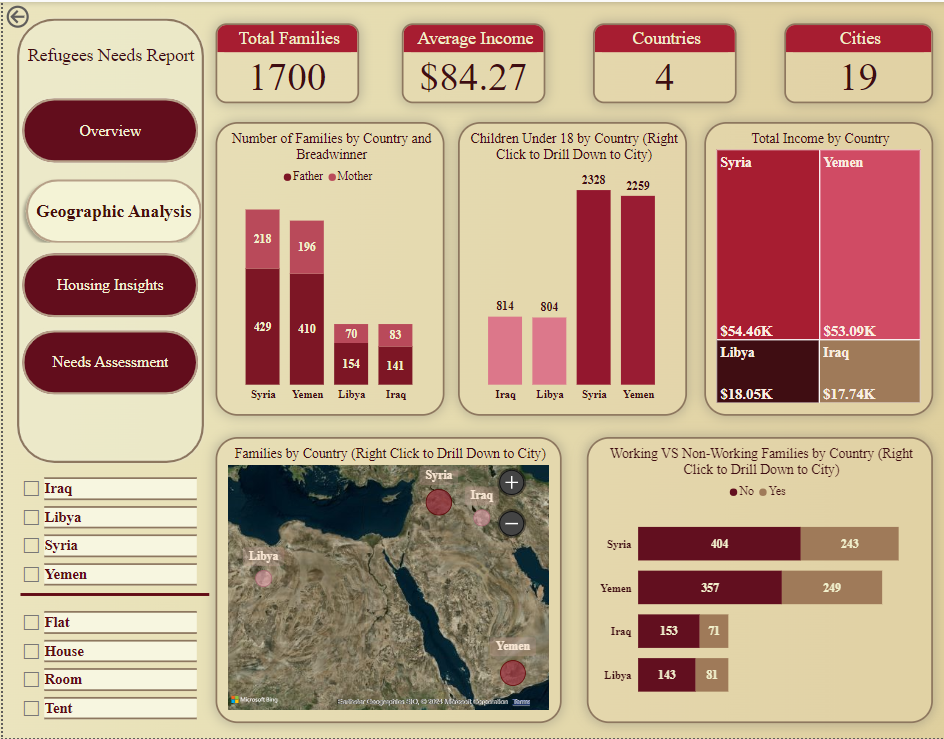

Layout of this report page (visuals, bound fields, positions):
{"tool":"powerbi","page":{"name":"Geographic Analysis","canvas":[1280,1000],"ordinal":1},"visuals":[{"type":"card","title":"Countries","fields":{"Values":["Measures_.total_countries"]},"box":[801.6,28.9,195.3,108.7],"z":0},{"type":"card","title":"Cities","fields":{"Values":["Measures_.total_citites"]},"box":[1061.5,28.9,202.1,108.7],"z":1000},{"type":"card","title":"Average Income","fields":{"Values":["Measures_.avg_income"]},"box":[541.8,28.9,195.3,108.7],"z":2000},{"type":"card","title":"Total Families","fields":{"Values":["Measures_.total_families"]},"box":[288.7,28.9,195.3,108.7],"z":3000},{"type":"shape","box":[15.3,18.7,261.6,611.4],"z":4000},{"type":"columnChart","title":"Number of Families by Country and Breadwinner","fields":{"Category":["Needs.Country"],"Y":["Count(Needs.Name)"],"Series":["Needs.Breadwinner"]},"box":[288.7,163,310.8,399.1],"z":5000},{"type":"clusteredColumnChart","title":"Children Under 18 by Country (Right Click to Drill Down to City)","fields":{"Category":["Needs.Country","Needs.City"],"Y":["Sum(Needs.Under 18 )"]},"box":[618.2,163,310.8,399.1],"z":6000},{"type":"treemap","title":"Total Income by Country","fields":{"Group":["Needs.Country"],"Values":["Sum(Needs.Income)"]},"box":[952.8,163,310.8,399.1],"z":7000},{"type":"map","title":"Families by Country (Right Click to Drill Down to City)","fields":{"Size":["CountNonNull(Needs.Name)"],"Category":["Needs.Country","Needs.City"]},"box":[288.7,591,470,388.9],"z":8000},{"type":"barChart","title":"Working VS Non-Working Families by Country (Right Click to Drill Down to City)","fields":{"Series":["Needs.Is Working?"],"Category":["Needs.Country","Needs.City"],"Y":["CountNonNull(Needs.Name)"]},"box":[793,591,470,388.9],"z":9000},{"type":"shape","box":[23.8,798,256.5,13.6],"z":10000},{"type":"textbox","box":[22.1,54.3,249.7,42.5],"z":11000},{"type":"pageNavigator","box":[22.1,107,248,433.1],"z":12000},{"type":"actionButton","box":[0,0,100,40],"z":13000},{"type":"slicer","fields":{"Values":["Needs.Country"]},"box":[15.3,636.9,253.1,168.1],"z":14000},{"type":"slicer","fields":{"Values":["Needs.House"]},"box":[15,818,253,168],"z":15000}]}

Visuals, with their boxes in screenshot pixels (x1, y1, x2, y2), scaled from the page's 1280x1000 canvas onto the 944x739 screenshot:
"Countries" card: left=591, top=21, right=735, bottom=102
"Cities" card: left=783, top=21, right=932, bottom=102
"Average Income" card: left=400, top=21, right=544, bottom=102
"Total Families" card: left=213, top=21, right=357, bottom=102
shape: left=11, top=14, right=204, bottom=466
"Number of Families by Country and Breadwinner" columnChart: left=213, top=120, right=442, bottom=415
"Children Under 18 by Country (Right Click to Drill Down to City)" clusteredColumnChart: left=456, top=120, right=685, bottom=415
"Total Income by Country" treemap: left=703, top=120, right=932, bottom=415
"Families by Country (Right Click to Drill Down to City)" map: left=213, top=437, right=560, bottom=724
"Working VS Non-Working Families by Country (Right Click to Drill Down to City)" barChart: left=585, top=437, right=931, bottom=724
shape: left=18, top=590, right=207, bottom=600
textbox: left=16, top=40, right=200, bottom=72
pageNavigator: left=16, top=79, right=199, bottom=399
actionButton: left=0, top=0, right=74, bottom=30
slicer - Needs.Country: left=11, top=471, right=198, bottom=595
slicer - Needs.House: left=11, top=605, right=198, bottom=729
